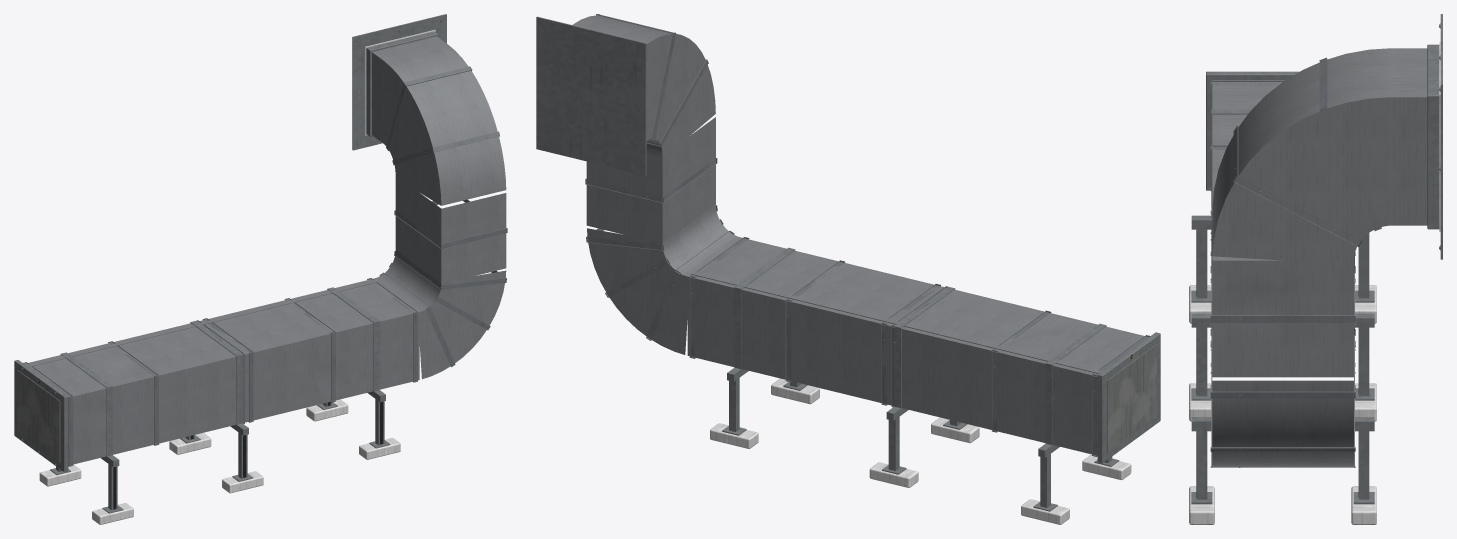
The model's file is duct_run.glb.
3 views of the same model, side by side, from view 1: azimuth 30°, elevation 25°; view 2: azimuth 150°, elevation 25°; view 3: azimuth 270°, elevation 25° (orthographic). The views are drawn at different scales.
Parts seen in each view (by area): view 1: part_run_2_LOD0, part_run_1_LOD0, part_elbow_top_LOD0, part_riser_LOD0, part_elbow_LOD0, part_end_cap_LOD0, part_collar_LOD0, part_stand_2_LOD0, part_stand_3_LOD0, part_stand_1_LOD0; view 2: part_run_2_LOD0, part_run_1_LOD0, part_collar_LOD0, part_elbow_LOD0, part_riser_LOD0, part_elbow_top_LOD0, part_end_cap_LOD0, part_stand_2_LOD0, part_stand_3_LOD0, part_stand_1_LOD0; view 3: part_elbow_top_LOD0, part_riser_LOD0, part_elbow_LOD0, part_stand_3_LOD0, part_stand_2_LOD0, part_stand_1_LOD0, part_collar_LOD0, part_run_1_LOD0, part_end_cap_LOD0, part_run_2_LOD0.
Boxes of the visible parts, bbox=[...] form: part_run_2_LOD0: bbox=[201, 278, 419, 422]; part_run_1_LOD0: bbox=[23, 320, 246, 466]; part_elbow_top_LOD0: bbox=[372, 36, 506, 205]; part_riser_LOD0: bbox=[394, 178, 507, 282]; part_elbow_LOD0: bbox=[373, 250, 506, 379]; part_end_cap_LOD0: bbox=[14, 360, 68, 471]; part_collar_LOD0: bbox=[352, 14, 446, 150]; part_stand_2_LOD0: bbox=[169, 320, 263, 493]; part_stand_3_LOD0: bbox=[306, 287, 400, 459]; part_stand_1_LOD0: bbox=[39, 352, 133, 524]; part_run_2_LOD0: bbox=[687, 237, 942, 405]; part_run_1_LOD0: bbox=[889, 286, 1150, 456]; part_collar_LOD0: bbox=[536, 16, 646, 175]; part_elbow_LOD0: bbox=[586, 204, 741, 354]; part_riser_LOD0: bbox=[585, 117, 717, 242]; part_elbow_top_LOD0: bbox=[572, 14, 715, 157]; part_end_cap_LOD0: bbox=[1097, 332, 1160, 463]; part_stand_2_LOD0: bbox=[869, 286, 979, 487]; part_stand_3_LOD0: bbox=[710, 247, 819, 448]; part_stand_1_LOD0: bbox=[1021, 323, 1131, 524]; part_elbow_top_LOD0: bbox=[1212, 48, 1427, 263]; part_riser_LOD0: bbox=[1210, 260, 1355, 377]; part_elbow_LOD0: bbox=[1210, 328, 1355, 467]; part_stand_3_LOD0: bbox=[1189, 323, 1376, 524]; part_stand_2_LOD0: bbox=[1189, 207, 1376, 421]; part_stand_1_LOD0: bbox=[1189, 109, 1376, 323]; part_collar_LOD0: bbox=[1427, 14, 1442, 259]; part_run_1_LOD0: bbox=[1210, 80, 1355, 255]; part_end_cap_LOD0: bbox=[1206, 71, 1299, 190]; part_run_2_LOD0: bbox=[1210, 216, 1355, 447].
Size of what is drawn, in the model's own units: 3.19 by 2.3 by 0.985.
8 materials, 8 textured.
